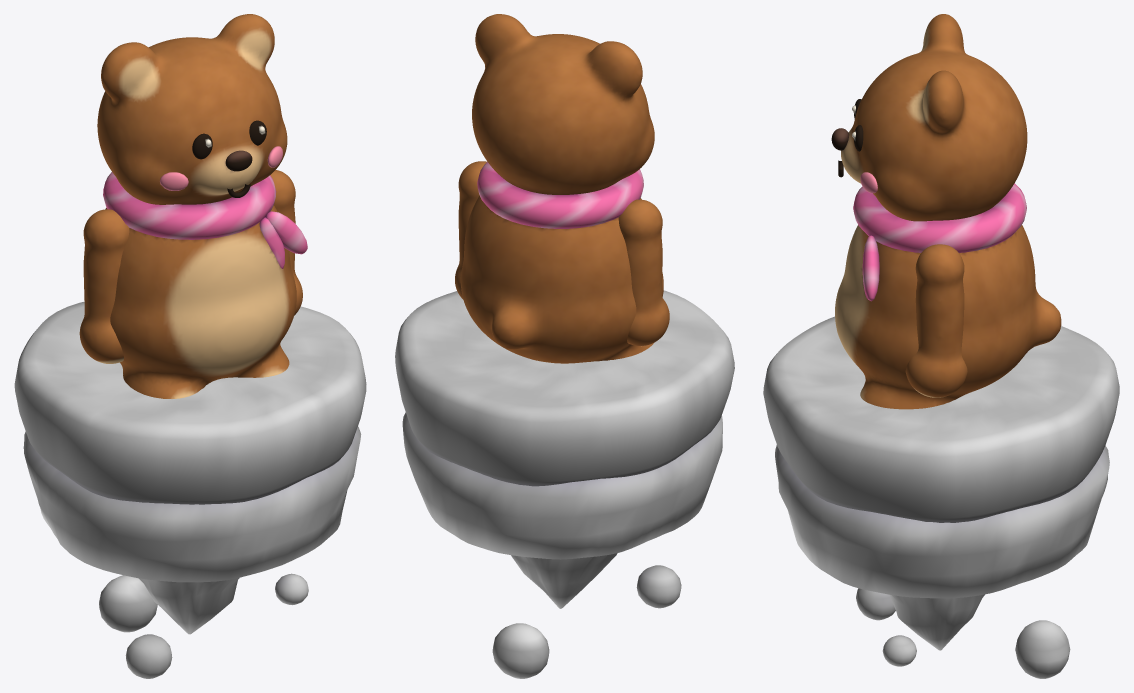
File: kit.glb
3 renders of one model, left to right at view 1: azimuth 30°, elevation 25°; view 2: azimuth 150°, elevation 25°; view 3: azimuth 270°, elevation 25°, orthographic. The views are drawn at different scales.
Visible parts, largest first — view 1: KitIslandTop, GHeadMesh, GBody, KitIslandSoil, KitIslandRock, GScarf, GArmLMesh, GArmRMesh; view 2: KitIslandTop, GHeadMesh, KitIslandSoil, GBody, KitIslandRock, GScarf, GArmLMesh, GArmRMesh; view 3: KitIslandTop, GHeadMesh, KitIslandSoil, GBody, KitIslandRock, GArmRMesh, GScarf.
Boxes of the visible parts, left/top/right/bottom form: KitIslandTop: left=14, top=301, right=366, bottom=504; GHeadMesh: left=97, top=14, right=287, bottom=204; GBody: left=105, top=205, right=296, bottom=398; KitIslandSoil: left=23, top=426, right=361, bottom=582; KitIslandRock: left=99, top=573, right=308, bottom=678; GScarf: left=103, top=172, right=307, bottom=268; GArmLMesh: left=79, top=209, right=129, bottom=363; GArmRMesh: left=270, top=170, right=302, bottom=315; KitIslandTop: left=395, top=290, right=734, bottom=486; GHeadMesh: left=472, top=14, right=654, bottom=194; KitIslandSoil: left=402, top=412, right=722, bottom=559; GBody: left=460, top=195, right=663, bottom=363; KitIslandRock: left=492, top=553, right=681, bottom=678; GScarf: left=477, top=162, right=643, bottom=228; GArmLMesh: left=618, top=199, right=669, bottom=346; GArmRMesh: left=455, top=161, right=486, bottom=299; KitIslandTop: left=763, top=316, right=1119, bottom=522; GHeadMesh: left=841, top=14, right=1027, bottom=221; KitIslandSoil: left=775, top=445, right=1109, bottom=598; GBody: left=835, top=225, right=1061, bottom=409; KitIslandRock: left=856, top=588, right=1070, bottom=678; GArmRMesh: left=905, top=244, right=967, bottom=397; GScarf: left=853, top=183, right=1026, bottom=301.
Size of the model in its own units: 2.05 by 4.07 by 2.07.
